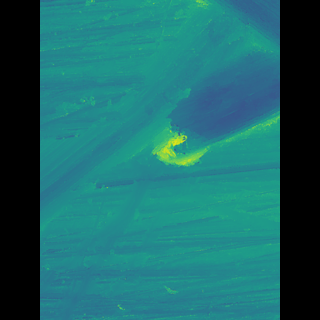Loch: (69, 0, 250, 226), (148, 113, 198, 174)
